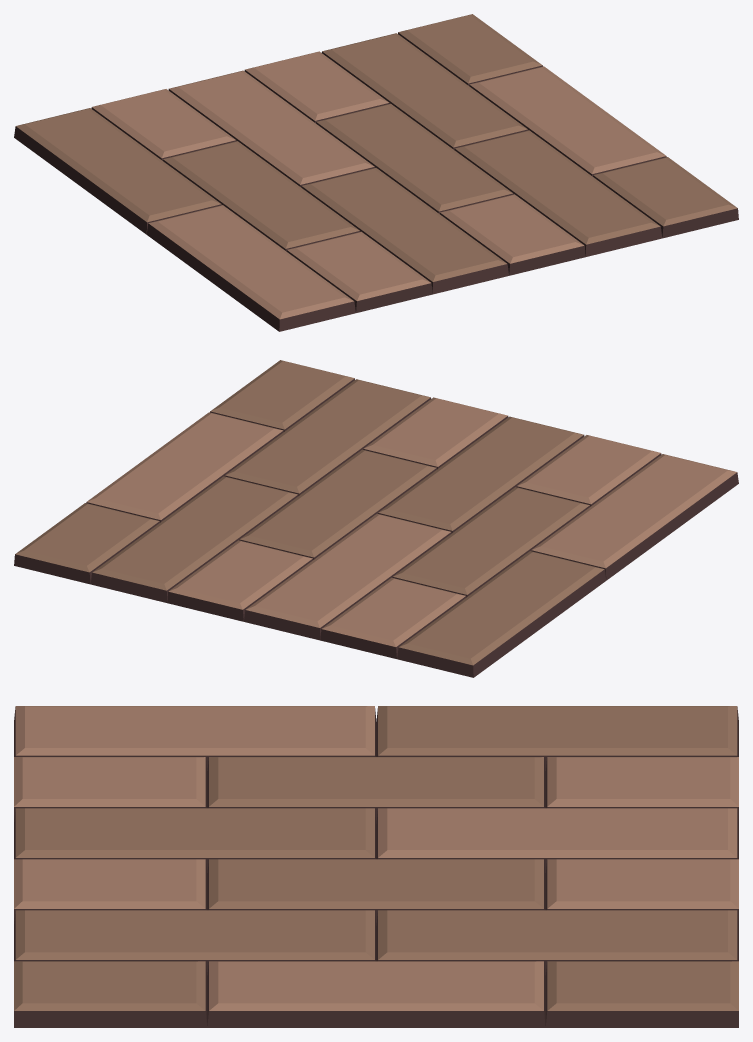
File: fantasy_floor_wood_1.fbx
The picture shows the model from 3 angles, top to bottom: view 1: azimuth 30°, elevation 25°; view 2: azimuth 150°, elevation 25°; view 3: azimuth 270°, elevation 25°; orthographic projection. The views are drawn at different scales.
Visible parts, largest first — view 1: Cube.005; view 2: Cube.005; view 3: Cube.005.
Boxes of the visible parts, left/top/right/bottom form: Cube.005: left=14, top=14, right=738, bottom=331; Cube.005: left=14, top=360, right=738, bottom=677; Cube.005: left=14, top=706, right=738, bottom=1027.
Size of the model in its own units: 300 by 9.12 by 300.
